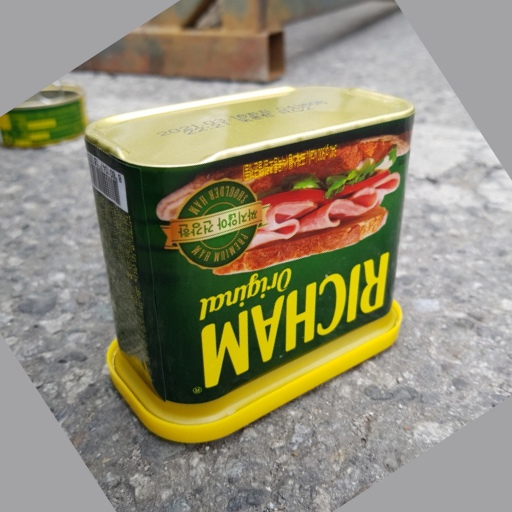Metal_2: (85, 83, 416, 445)
